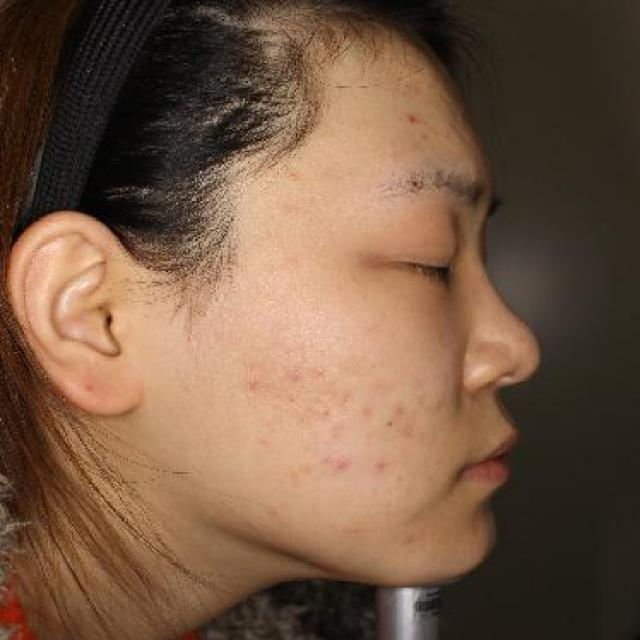dark spot: (240, 378, 264, 396)
papules: (282, 366, 308, 385), (398, 109, 422, 129), (332, 457, 356, 474), (370, 458, 390, 474)
